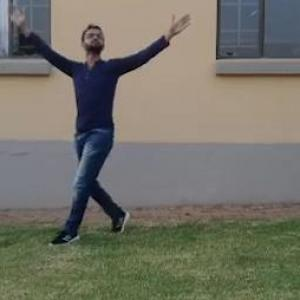takeoff: (7, 13, 187, 243)
